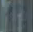bike lane: (1, 2, 29, 31)
